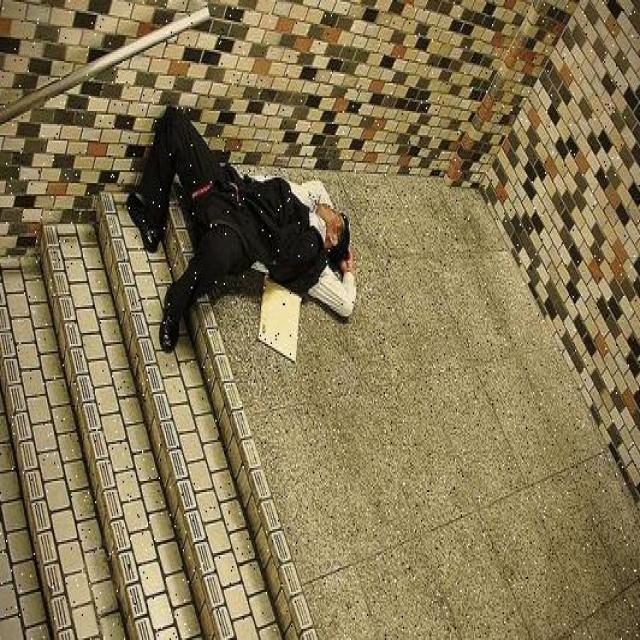fall: (132, 142, 354, 336)
